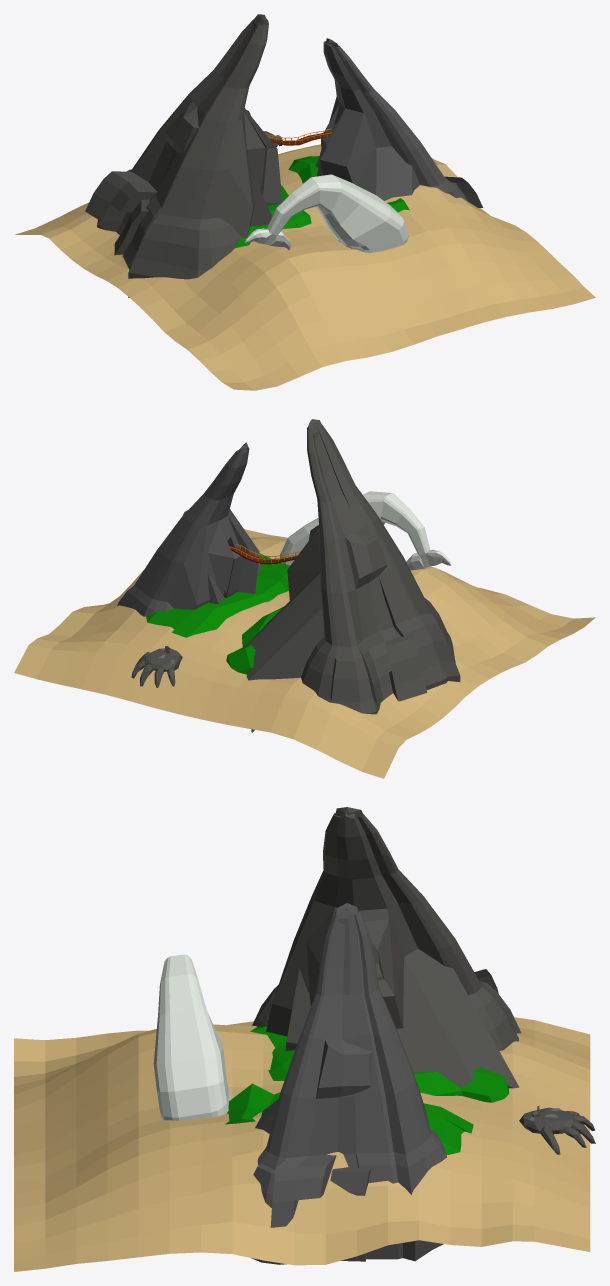
File: IslaMano 1.fbx
The picture shows the model from 3 angles, top to bottom: view 1: azimuth 30°, elevation 25°; view 2: azimuth 150°, elevation 25°; view 3: azimuth 270°, elevation 25°; orthographic projection. The views are drawn at different scales.
Visible parts, largest first — view 1: Plane; view 2: Plane, Icosphere.002; view 3: Plane, Icosphere.002.
Part boxes in pixels (x1,y1,x2,y2): Plane: (15, 14, 595, 390); Plane: (14, 419, 595, 778); Icosphere.002: (131, 646, 182, 687); Plane: (14, 807, 590, 1271); Icosphere.002: (519, 1106, 595, 1154).
Size of the model in its own units: 15714 by 10455 by 15939.
